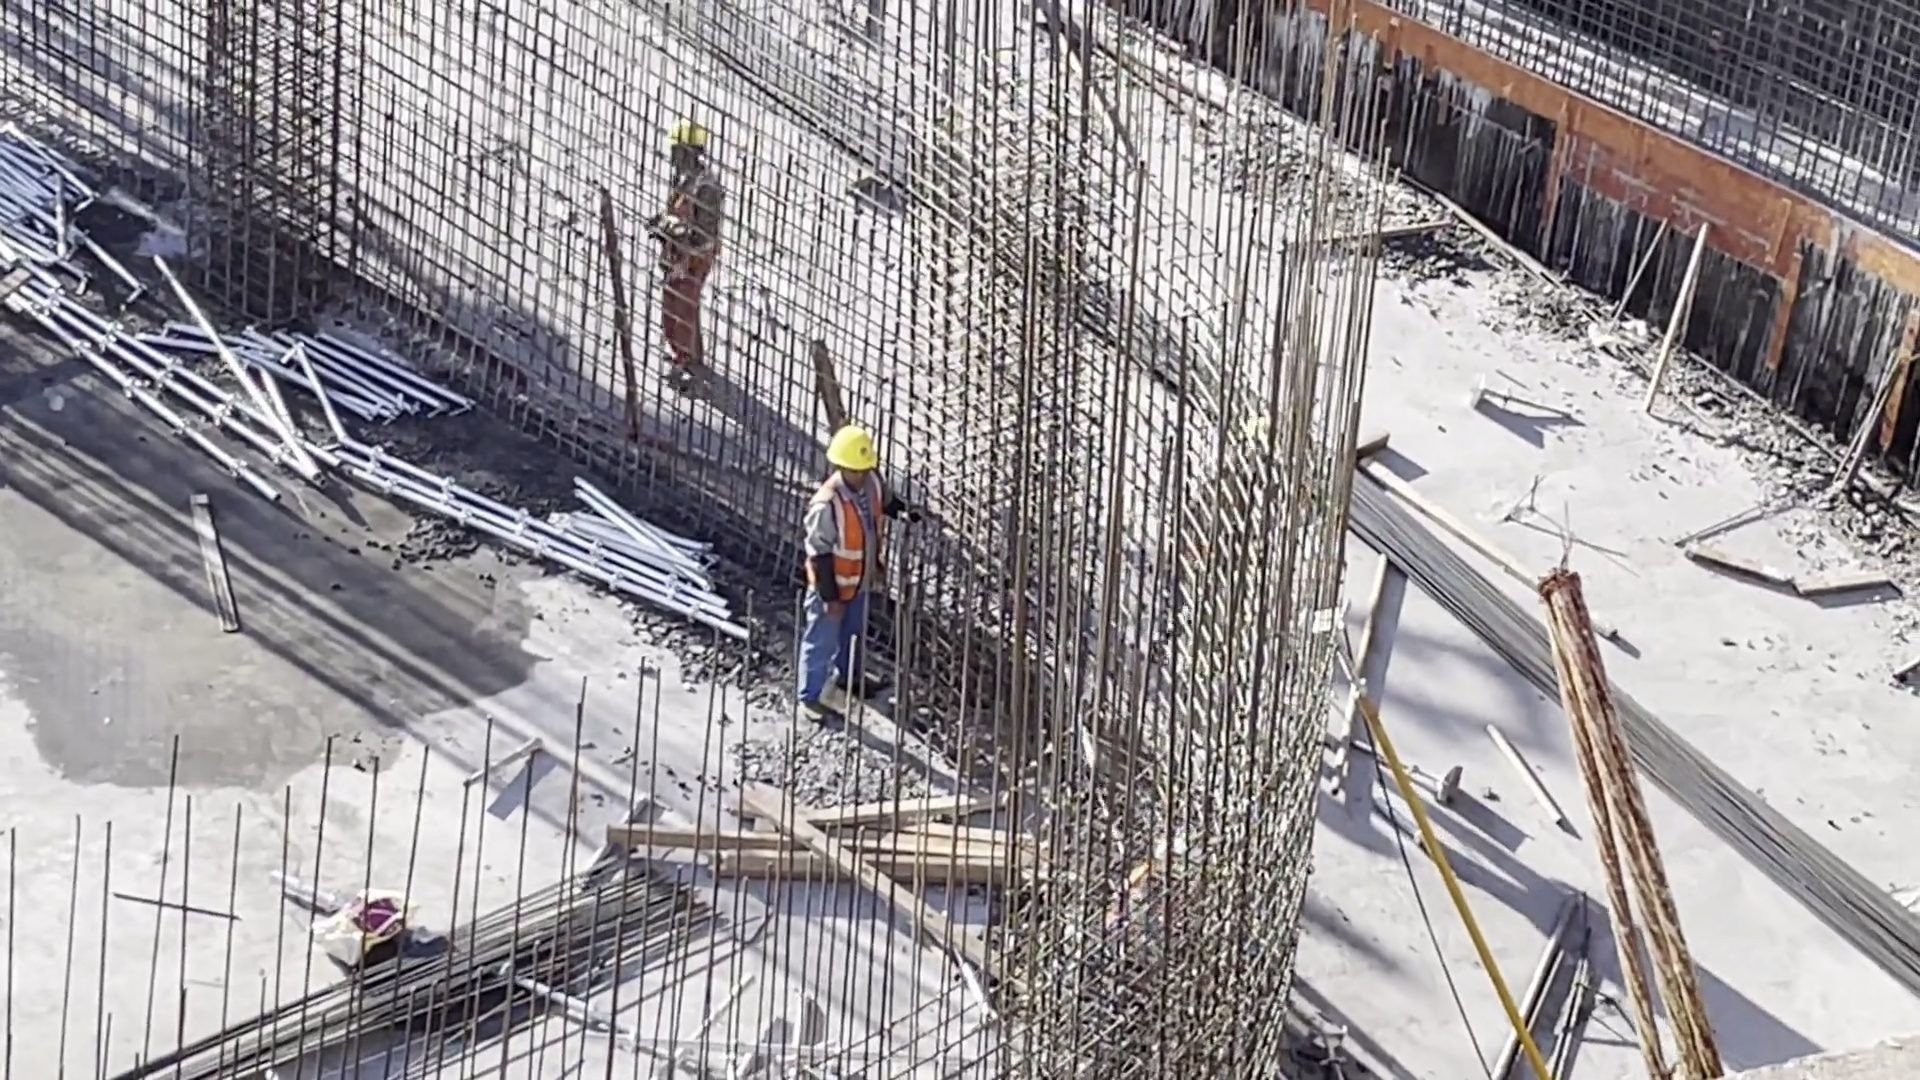helmet: (823, 427, 888, 478), (677, 122, 718, 158)
person: (784, 422, 912, 730), (654, 122, 748, 386)
rebar: (1338, 474, 1920, 1002), (144, 870, 671, 1078)
scaffold: (192, 288, 454, 497), (525, 485, 747, 635), (1, 96, 99, 330)
vest: (820, 482, 899, 611), (666, 178, 717, 287)
